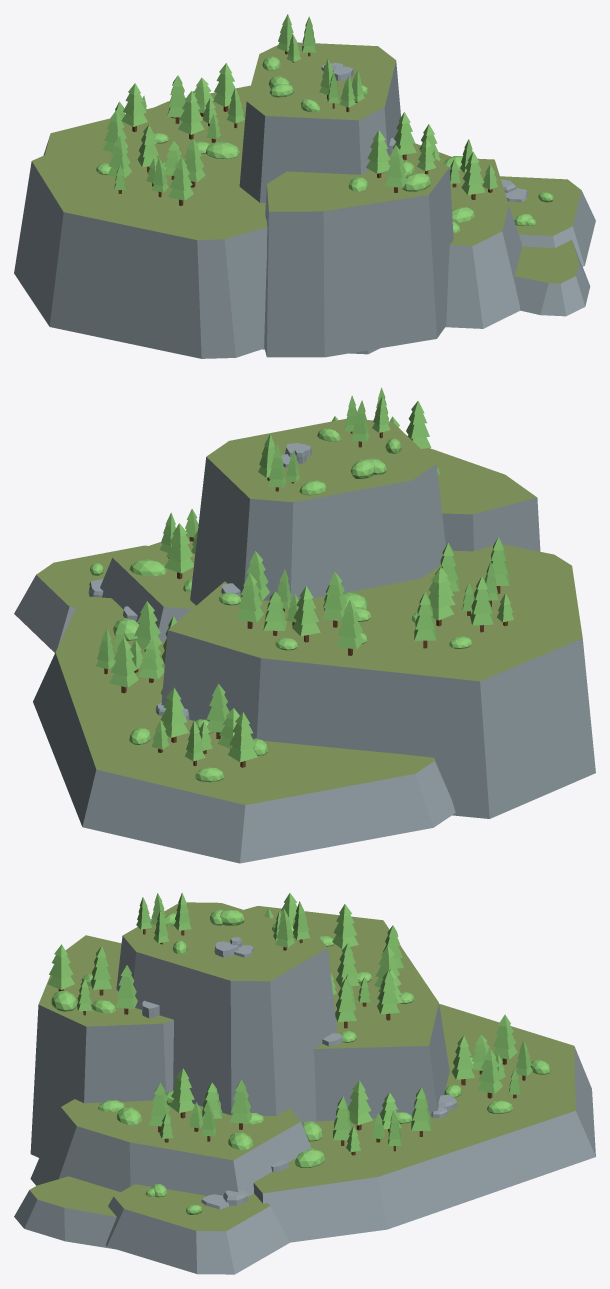
The model's file is MountainBackground1.fbx.
The picture shows the model from 3 angles, top to bottom: view 1: azimuth 30°, elevation 25°; view 2: azimuth 150°, elevation 25°; view 3: azimuth 270°, elevation 25°; orthographic projection. The views are drawn at different scales.
Parts seen in each view (by area): view 1: Cube.005, Cube.006, Cube, Cube.002, Cube.001, Cube.003, Cube.004, Icosphere.024; view 2: Cube.005, Cube.004, Cube, Cube.006, Cube.001, Cube.002; view 3: Cube.004, Cube, Cube.002, Cube.005, Cube.006, Cube.001, Cube.003.
Part boxes in pixels (x1,y1,x2,y2): Cube.005: (14, 85, 267, 358); Cube.006: (264, 146, 453, 357); Cube: (239, 42, 400, 354); Cube.002: (439, 157, 522, 328); Cube.001: (500, 176, 595, 266); Cube.003: (515, 240, 590, 316); Cube.004: (43, 108, 451, 157); Icosphere.024: (206, 142, 240, 158); Cube.005: (161, 544, 595, 818); Cube.004: (33, 596, 455, 863); Cube: (190, 418, 445, 605); Cube.006: (421, 448, 540, 551); Cube.001: (14, 545, 147, 652); Cube.002: (100, 536, 195, 641); Cube.004: (253, 1004, 595, 1242); Cube: (116, 902, 337, 1122); Cube.002: (30, 1099, 311, 1196); Cube.005: (244, 906, 449, 1121); Cube.006: (30, 935, 173, 1157); Cube.001: (106, 1184, 289, 1274); Cube.003: (14, 1176, 120, 1249).
Bounding box in the file's own units: 6664 × 3261 × 6271.
